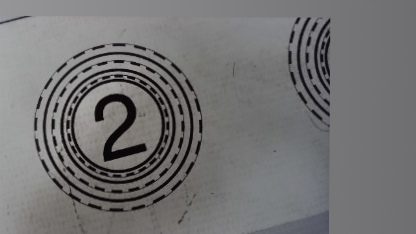2r: (31, 40, 203, 214)
